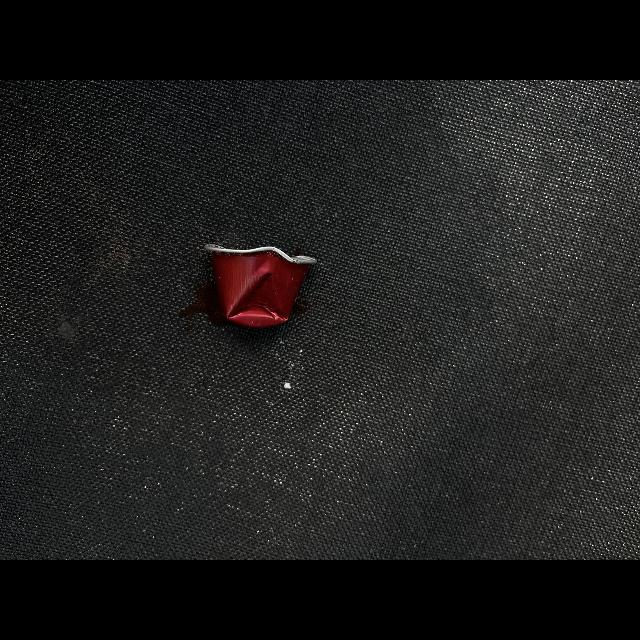damaged_capsule: (202, 232, 326, 332)
